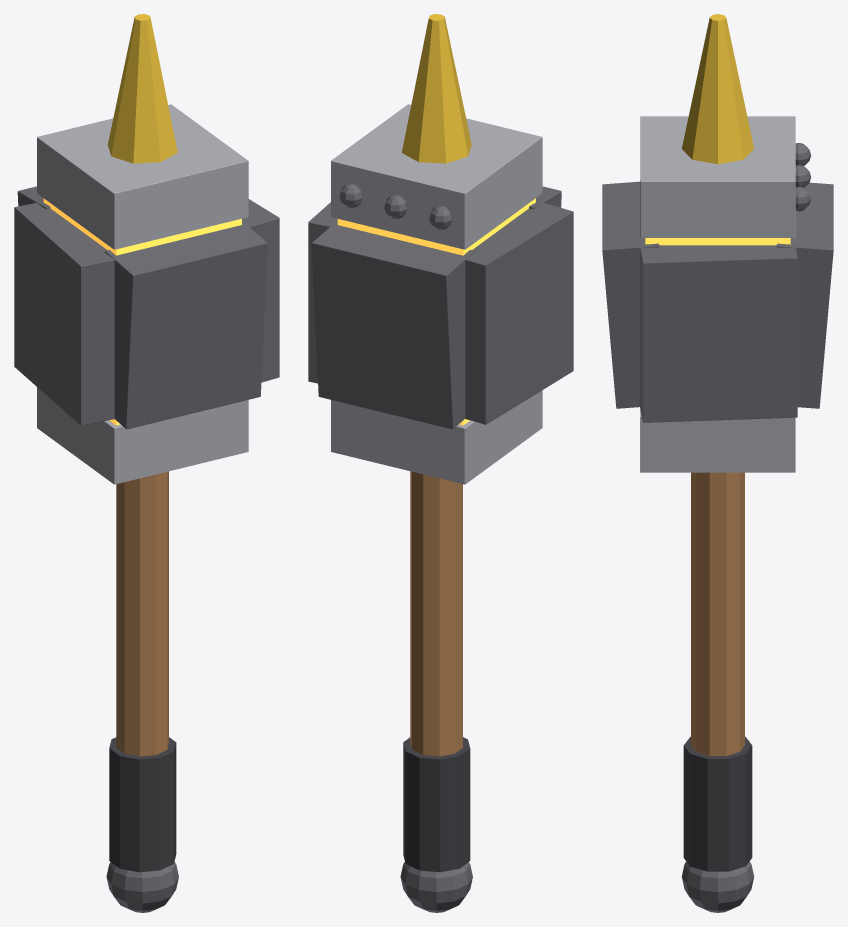
Rendered from core-maul.glb.
3 views of the same model, side by side, from view 1: azimuth 30°, elevation 25°; view 2: azimuth 150°, elevation 25°; view 3: azimuth 270°, elevation 25° (orthographic).
Visible parts, largest first — view 1: chunk_b, chunk_top, chunk_r, haft, chunk_bot, grip, spike, chunk_l, pommel, core; view 2: chunk_f, chunk_r, chunk_top, haft, chunk_bot, grip, spike, pommel, chunk_l, core; view 3: chunk_l, chunk_top, haft, chunk_bot, grip, chunk_b, chunk_f, spike, pommel, core.
Boxes of the visible parts, <box> form: chunk_b: <box>105,221,267,429</box>; chunk_top: <box>37,104,248,249</box>; chunk_r: <box>14,202,114,425</box>; haft: <box>116,471,168,756</box>; chunk_bot: <box>37,387,248,484</box>; grip: <box>109,737,176,872</box>; spike: <box>107,14,177,163</box>; chunk_l: <box>242,199,279,382</box>; pommel: <box>106,862,178,912</box>; core: <box>43,198,241,425</box>; chunk_f: <box>311,221,474,429</box>; chunk_r: <box>465,202,573,424</box>; chunk_top: <box>331,104,542,249</box>; haft: <box>410,471,462,756</box>; chunk_bot: <box>331,390,542,484</box>; grip: <box>403,737,470,872</box>; spike: <box>401,14,471,163</box>; pommel: <box>400,862,472,912</box>; chunk_l: <box>308,202,337,383</box>; core: <box>337,198,535,425</box>; chunk_l: <box>639,245,797,422</box>; chunk_top: <box>640,116,795,237</box>; haft: <box>691,472,744,755</box>; chunk_bot: <box>640,410,795,472</box>; grip: <box>683,736,752,871</box>; chunk_b: <box>602,181,659,408</box>; chunk_f: <box>776,182,833,408</box>; spike: <box>682,14,753,164</box>; pommel: <box>681,861,754,912</box>; core: <box>645,238,790,245</box>.
Size of the model in its own units: 0.2217 by 0.95 by 0.2233.
